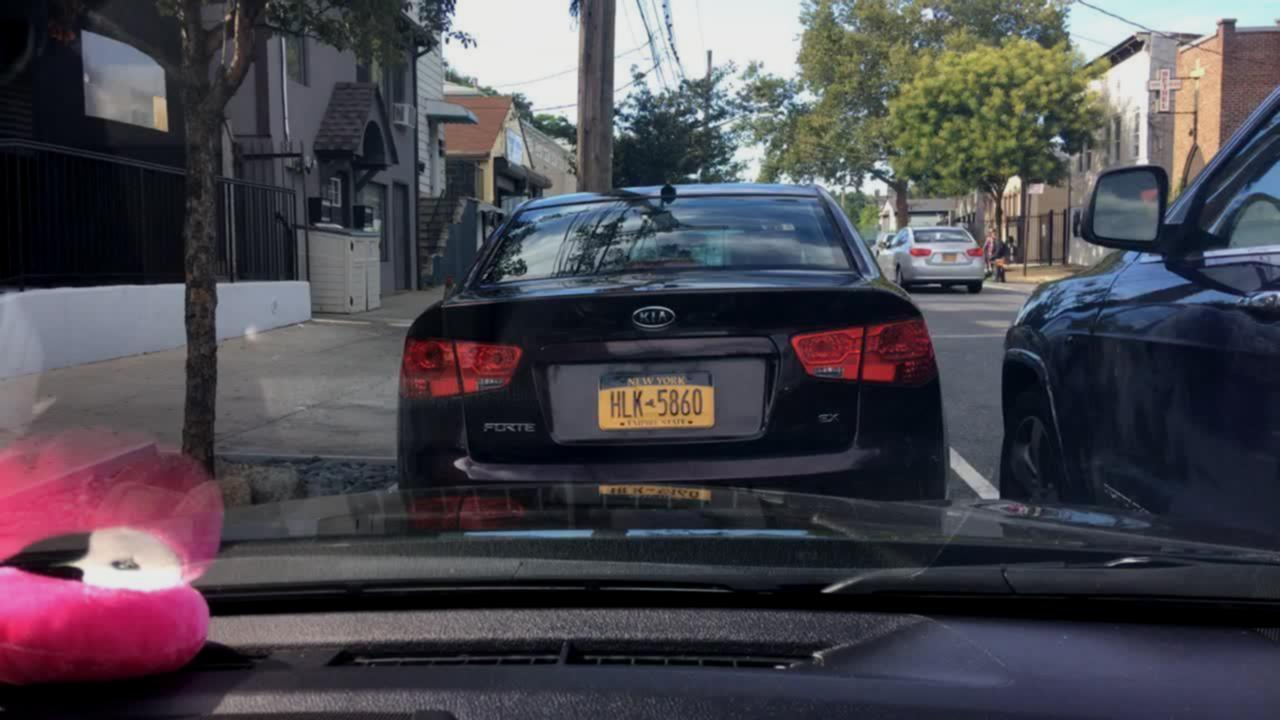kia: (615, 300, 690, 334)
